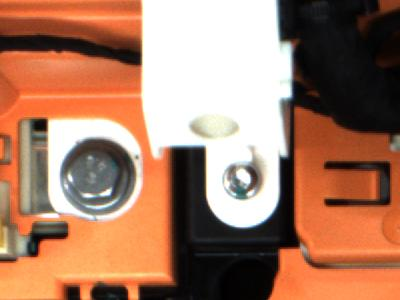nut_b: (59, 137, 140, 216)
screw_m: (220, 157, 266, 206)
